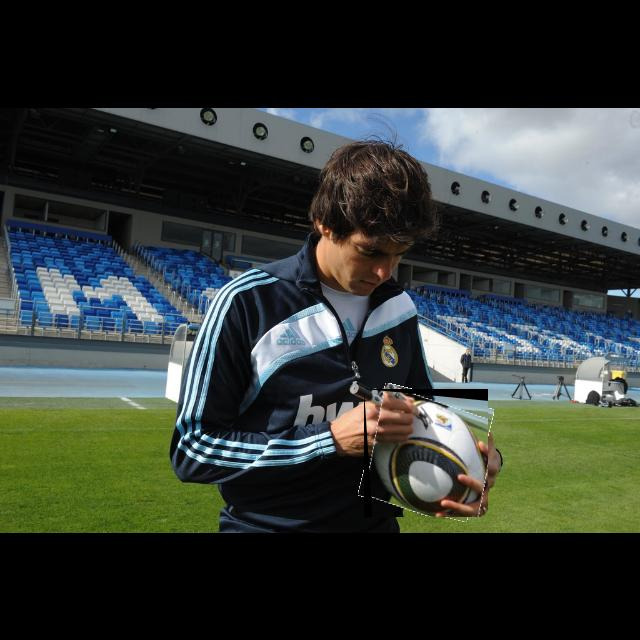Football: (364, 389, 488, 517)
